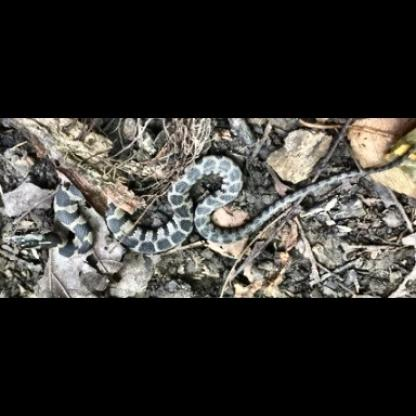Snake: (5, 123, 414, 284)
